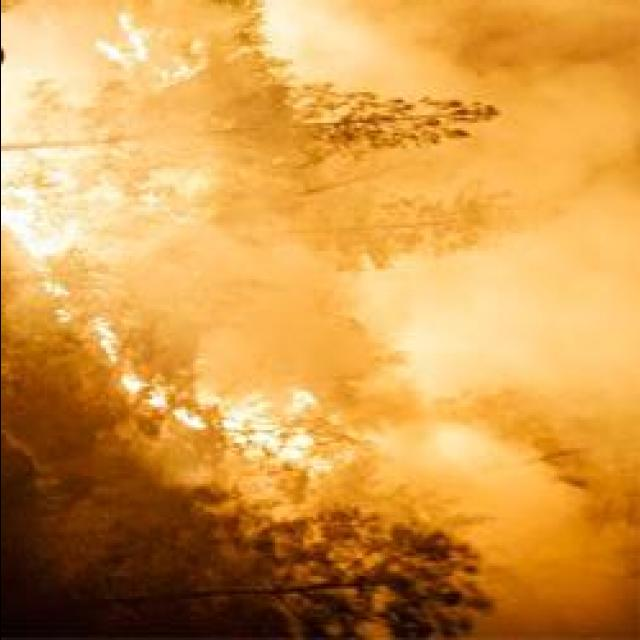fire: (217, 380, 331, 474), (0, 142, 92, 252), (84, 12, 154, 70)
smoke: (402, 252, 636, 478), (294, 0, 638, 90), (520, 446, 634, 636)
